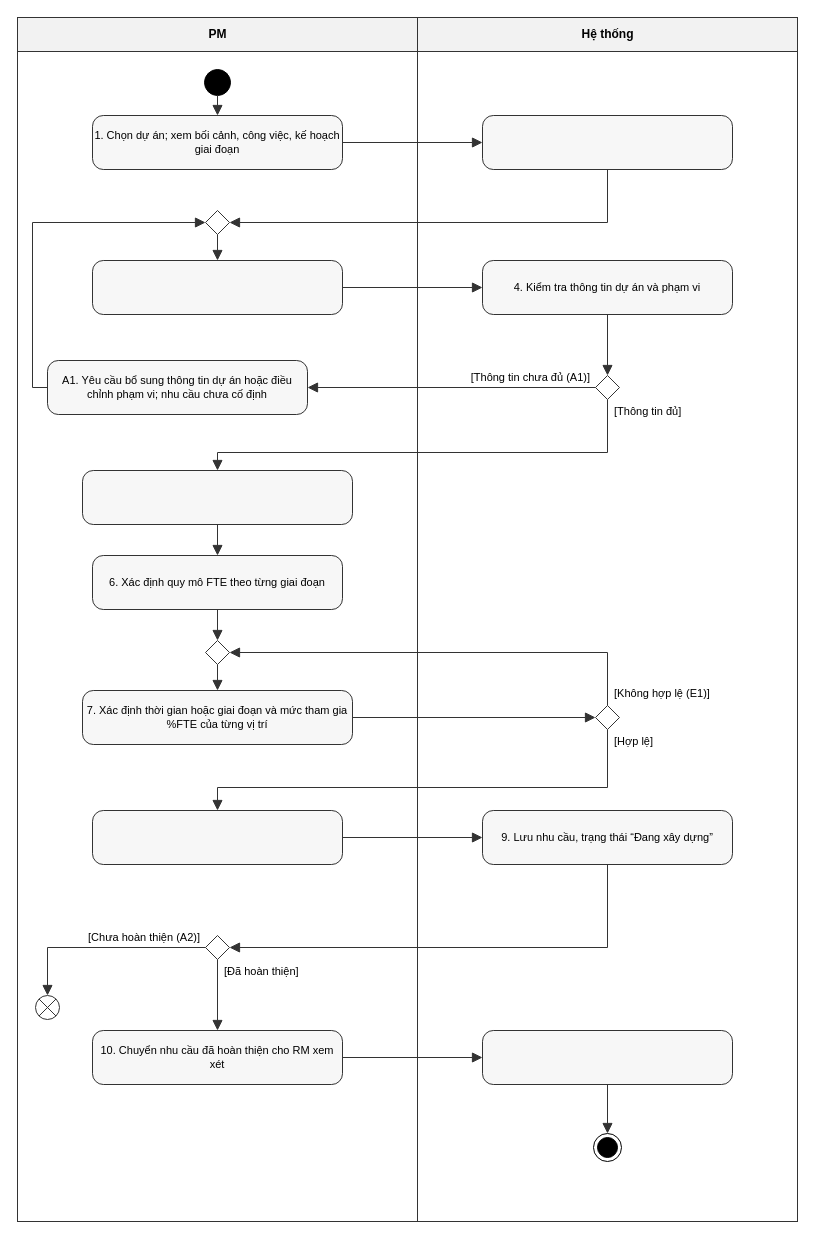
This 815x1239 diagram has some shape labels left out. The centre of each missing label's shape, as x and y in pixels:
"11. Ghi nhận nhu cầu ở trạng thái “Đã chuyển RM” (sang UC-01.2)" belongs at point 607,1057.
"2. Hiển thị thông tin dự án, công việc và các mốc thời gian" belongs at point 607,142.
"3. Xác lập phạm vi công việc cần nguồn lực" belongs at point 217,287.
"5. Xác định loại nguồn lực, yêu cầu chuyên môn, kỹ năng cho từng công việc" belongs at point 217,497.
"8. Rà soát toàn bộ nhu cầu và lưu" belongs at point 217,837.
